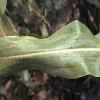Corn rust leaf: (0, 19, 99, 81)
